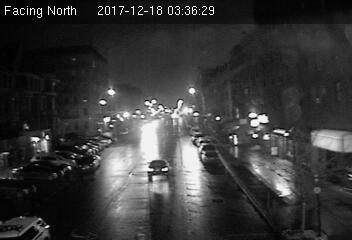car: (146, 157, 170, 177), (76, 154, 101, 171), (200, 151, 222, 164)
